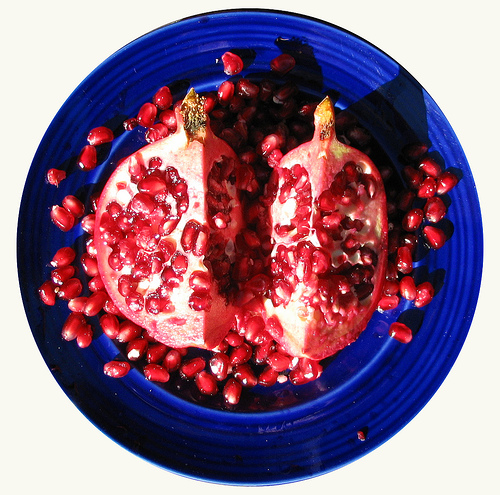pomogranate: (37, 47, 456, 412)
